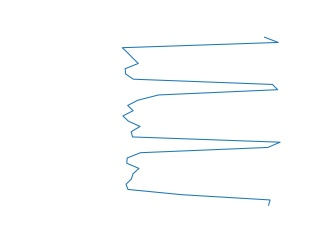majorRiverChannelBar: (118, 36, 285, 209)
